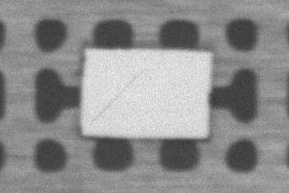DIE_CRACK: (135, 46, 216, 83)
